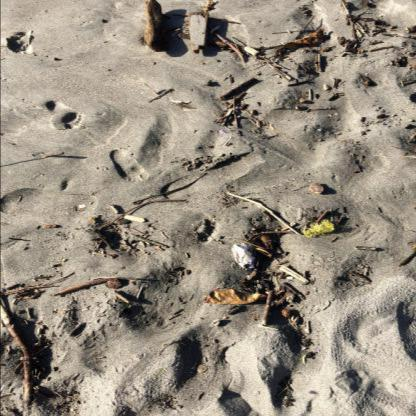Other litter: (300, 219, 334, 238)
Other plastic: (219, 130, 228, 136)
Paper: (231, 243, 255, 271)
